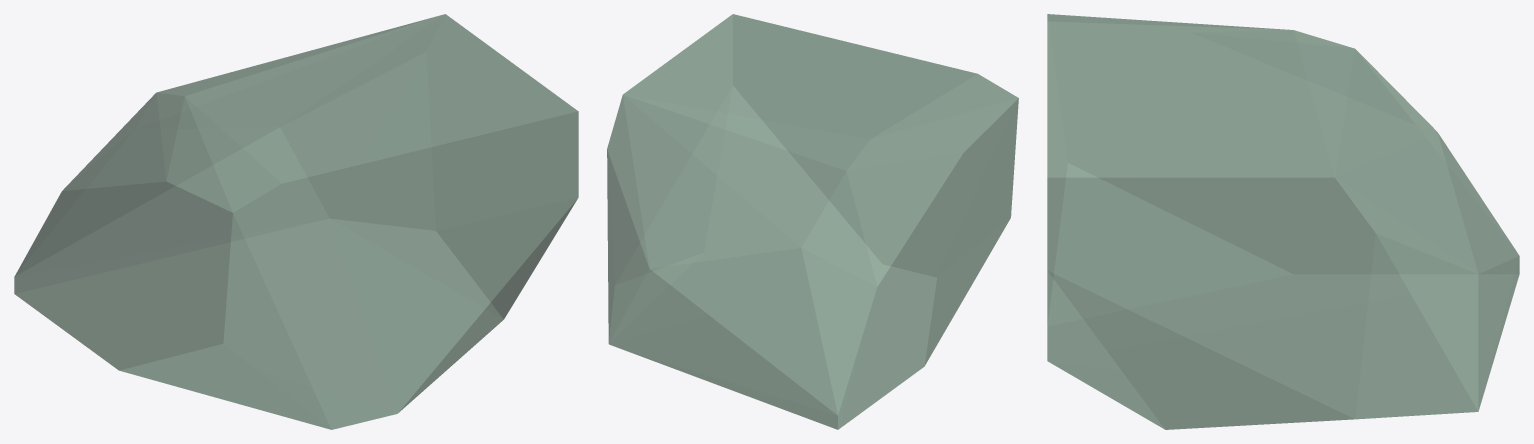
3 views of the same model, side by side, from view 1: azimuth 30°, elevation 25°; view 2: azimuth 150°, elevation 25°; view 3: azimuth 270°, elevation 25° (orthographic). The views are drawn at different scales.
Parts seen in each view (by area): view 1: Shape_IndexedFaceSet.017_Shape_IndexedFaceSet.1385; view 2: Shape_IndexedFaceSet.017_Shape_IndexedFaceSet.1385; view 3: Shape_IndexedFaceSet.017_Shape_IndexedFaceSet.1385.
Part boxes in pixels (x1,y1,x2,y2): Shape_IndexedFaceSet.017_Shape_IndexedFaceSet.1385: [14, 14, 578, 429]; Shape_IndexedFaceSet.017_Shape_IndexedFaceSet.1385: [607, 14, 1018, 429]; Shape_IndexedFaceSet.017_Shape_IndexedFaceSet.1385: [1047, 14, 1519, 429].
Bounding box in the file's own units: 0.0512 × 0.0366 × 0.0561.
